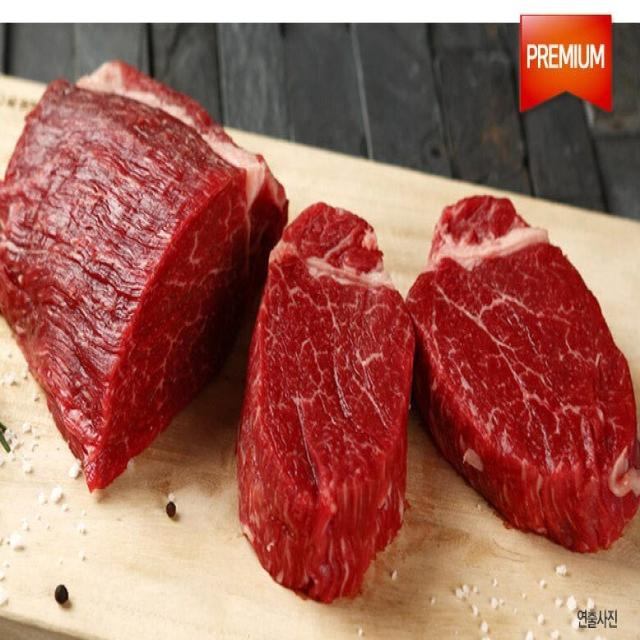beef: (39, 103, 202, 374), (274, 243, 386, 520), (448, 248, 581, 472)
